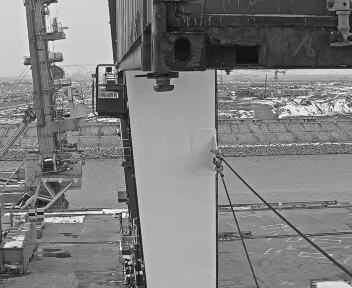twist_lock_1: (140, 61, 186, 101)
